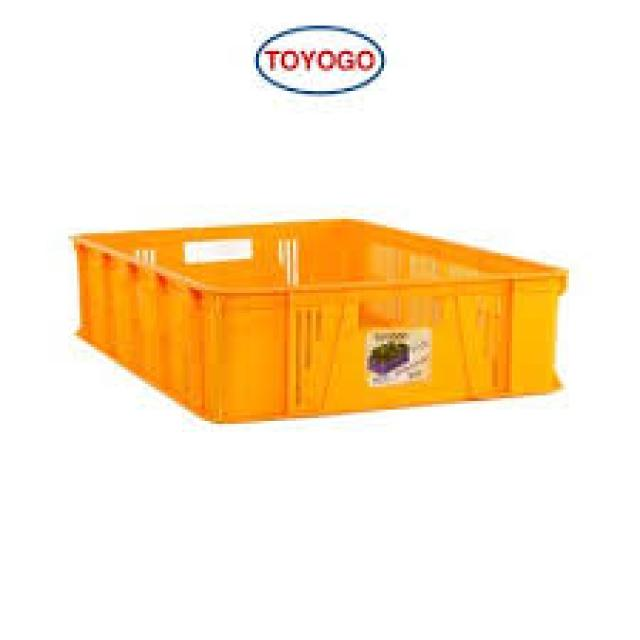basket: (76, 215, 573, 428)
